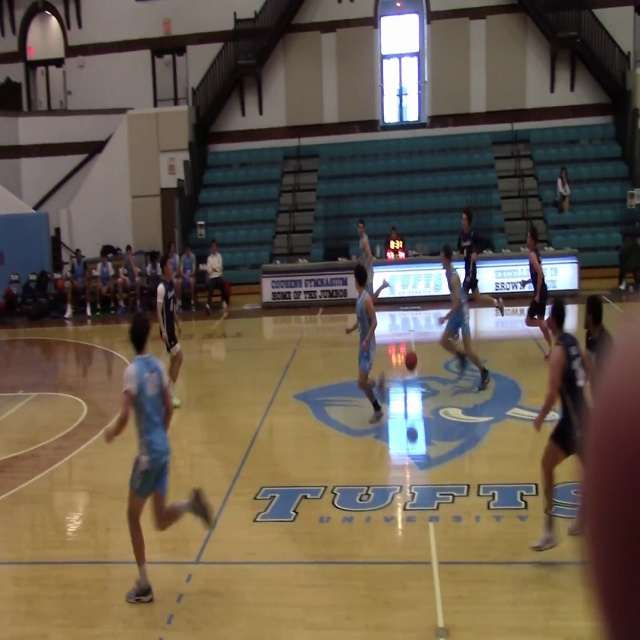Basketball: (405, 351, 417, 370), (172, 397, 181, 408)
